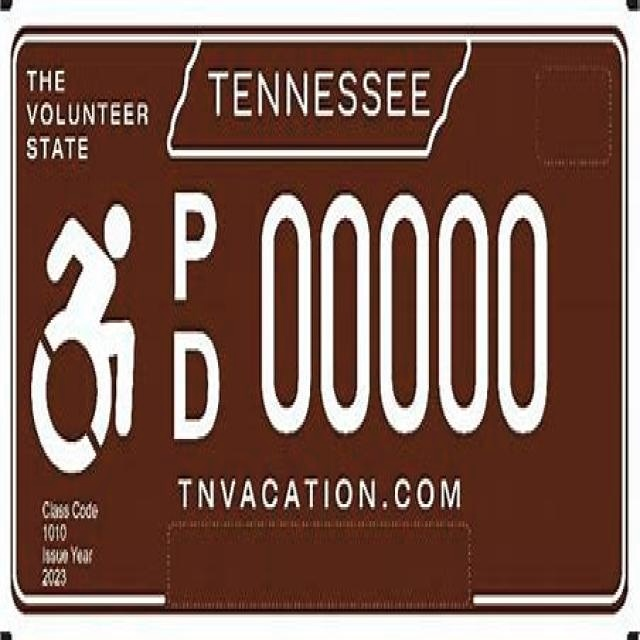ISA: (30, 197, 138, 476)
